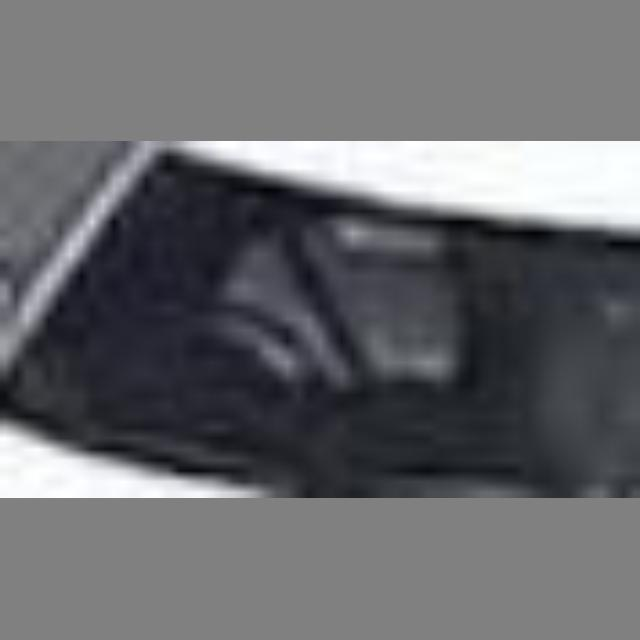pakai: (174, 228, 477, 423)
